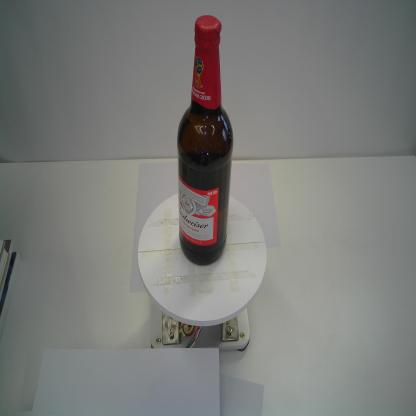Alcohol: (176, 13, 234, 267)
